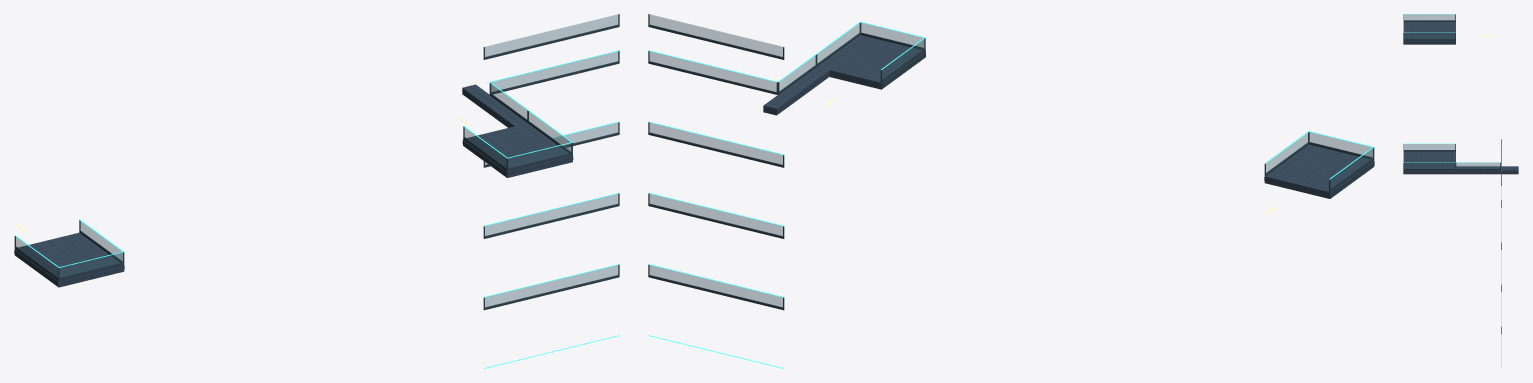
Rendered from v02-detailed-01-07-coffered.glb.
3 renders of one model, left to right at view 1: azimuth 30°, elevation 25°; view 2: azimuth 150°, elevation 25°; view 3: azimuth 270°, elevation 25°, orthographic. The views are drawn at different scales.
Visible parts, largest first — view 1: v02-detailed-01-07-coffered; view 2: v02-detailed-01-07-coffered; view 3: v02-detailed-01-07-coffered.
Boxes of the visible parts, x1,y1,x2,y2 form: v02-detailed-01-07-coffered: (14,14,619,368); v02-detailed-01-07-coffered: (648,14,1374,368); v02-detailed-01-07-coffered: (1403,14,1518,368).
Size of the model in its own units: 58.85 by 28.09 by 15.37.
Materials: 5 (1 with a texture image).
